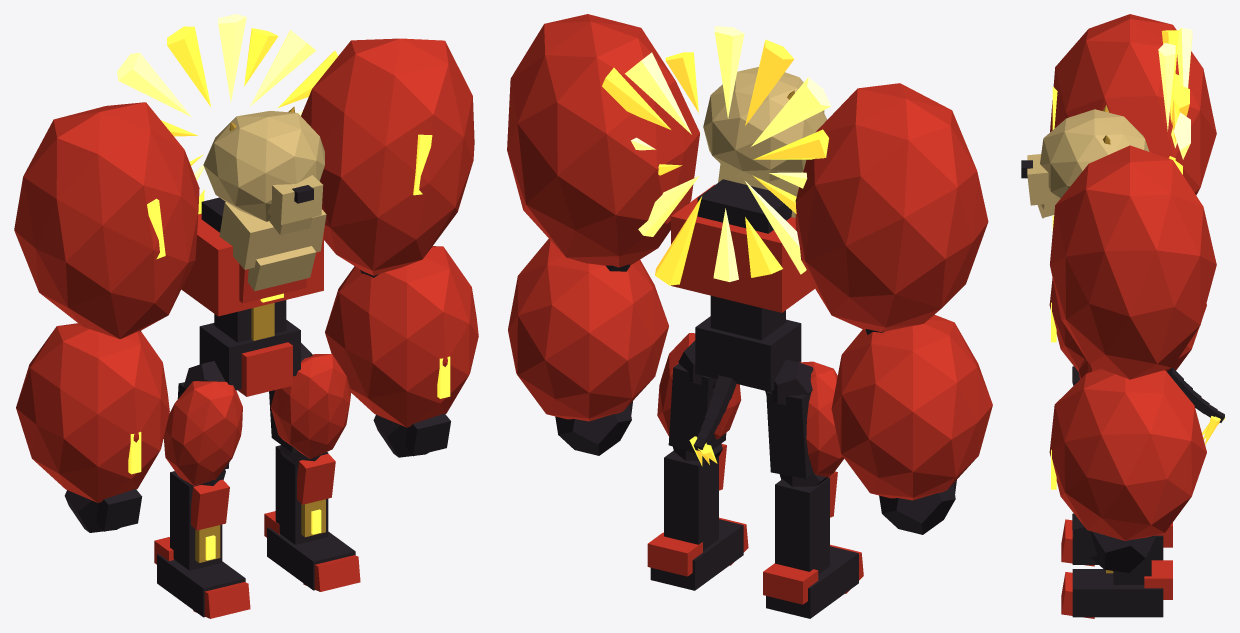
Rendered from beast-hangar-solmane-v1.glb.
3 renders of one model, left to right at view 1: azimuth 30°, elevation 25°; view 2: azimuth 150°, elevation 25°; view 3: azimuth 270°, elevation 25°, orthographic. The views are drawn at different scales.
Visible parts, largest first — view 1: surface_9, surface_16, arms_1, arms_2, surface_45, surface_25, surface_36, surface_5, surface_55, surface_1, surface_31, surface_42 (+25 smaller); view 2: surface_9, surface_16, arms_1, arms_2, surface_45, surface_5, surface_1, surface_27, surface_38, surface_24, surface_25, surface_8 (+23 smaller); view 3: surface_16, arms_2, surface_9, surface_45, surface_42, surface_21, arms_1, surface_46, flames_5, surface_44, flames_7, surface_38 (+7 smaller).
Boxes of the visible parts, left/top/right/bottom form: surface_9: left=14, top=102, right=199, bottom=338; surface_16: left=301, top=38, right=474, bottom=275; arms_1: left=16, top=323, right=169, bottom=502; arms_2: left=325, top=246, right=478, bottom=427; surface_45: left=203, top=111, right=324, bottom=221; surface_25: left=163, top=381, right=242, bottom=485; surface_36: left=270, top=354, right=351, bottom=458; surface_5: left=181, top=213, right=323, bottom=316; surface_55: left=219, top=202, right=326, bottom=269; surface_1: left=199, top=320, right=300, bottom=390; surface_31: left=157, top=554, right=245, bottom=617; surface_42: left=267, top=527, right=355, bottom=590; surface_9: left=795, top=83, right=988, bottom=331; surface_16: left=507, top=14, right=699, bottom=267; arms_1: left=831, top=314, right=992, bottom=500; arms_2: left=508, top=238, right=668, bottom=421; surface_45: left=703, top=67, right=827, bottom=181; surface_5: left=671, top=184, right=814, bottom=312; surface_1: left=695, top=316, right=801, bottom=391; surface_27: left=775, top=477, right=829, bottom=574; surface_38: left=664, top=450, right=718, bottom=550; surface_24: left=766, top=391, right=813, bottom=478; surface_25: left=799, top=361, right=844, bottom=477; surface_8: left=697, top=179, right=791, bottom=233; surface_16: left=1050, top=145, right=1216, bottom=379; arms_2: left=1049, top=368, right=1206, bottom=540; surface_9: left=1050, top=14, right=1216, bottom=195; surface_45: left=1040, top=109, right=1149, bottom=201; surface_42: left=1072, top=569, right=1163, bottom=617; surface_21: left=1090, top=531, right=1155, bottom=572; arms_1: left=1049, top=278, right=1206, bottom=371; surface_46: left=1027, top=154, right=1057, bottom=205; flames_5: left=1158, top=43, right=1175, bottom=131; surface_44: left=1144, top=560, right=1172, bottom=599; flames_7: left=1177, top=27, right=1192, bottom=87; surface_38: left=1113, top=546, right=1151, bottom=584.
Bounding box in the file's own units: 10.41 × 12.36 × 4.28.
